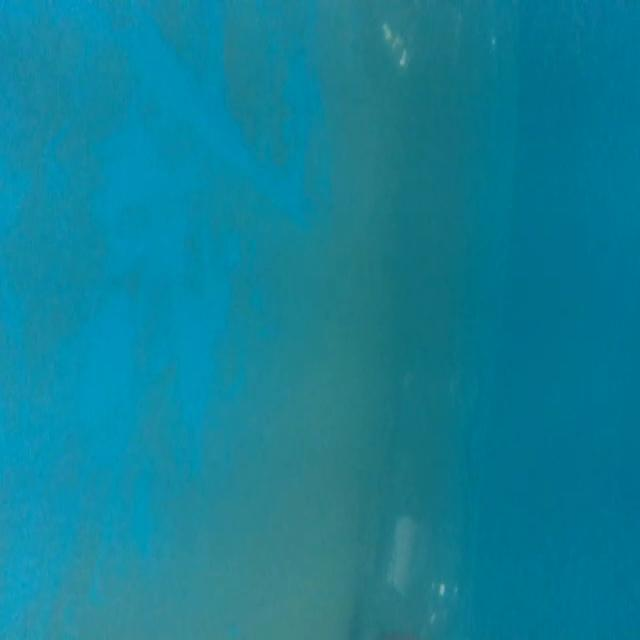plastic bottle: (358, 312, 498, 640)
